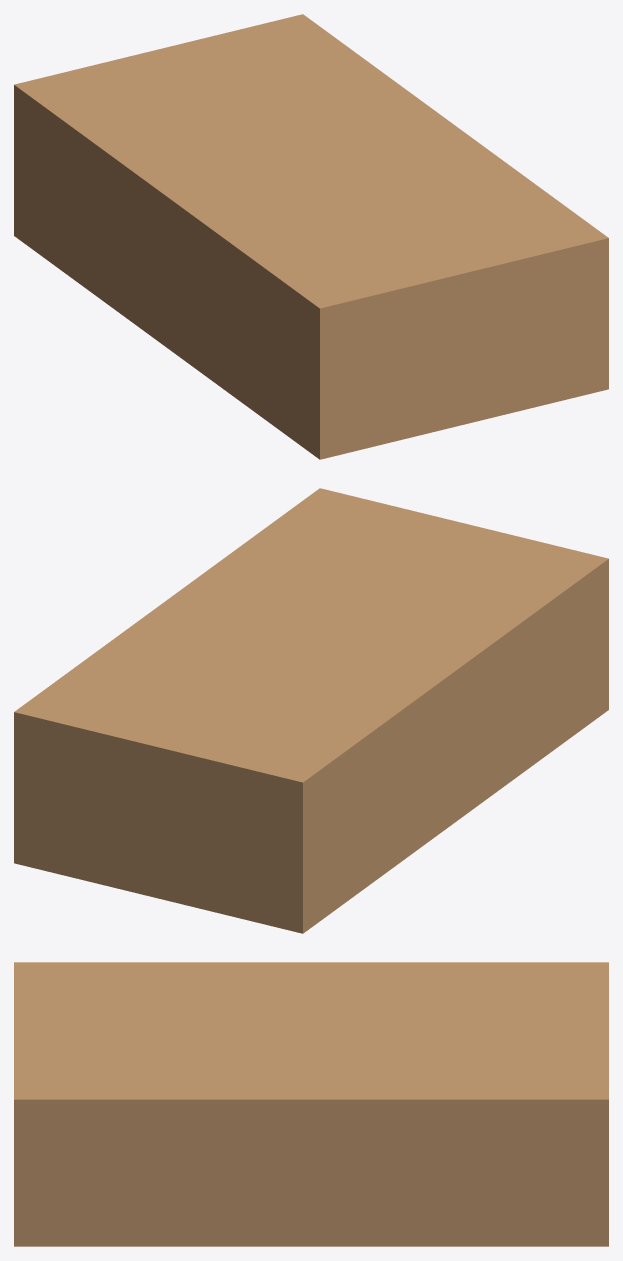
Rendered from a2g_left_silicone_pad.glb.
The picture shows the model from 3 angles, top to bottom: view 1: azimuth 30°, elevation 25°; view 2: azimuth 150°, elevation 25°; view 3: azimuth 270°, elevation 25°; orthographic projection. The views are drawn at different scales.
Visible parts, largest first — view 1: world; view 2: world; view 3: world.
Part boxes in pixels (box(x1,y1,x2,y2)): world: box(14, 14, 608, 459); world: box(14, 488, 608, 933); world: box(14, 962, 608, 1246).
Bounding box in the file's own units: 0.024 × 0.012 × 0.044.
